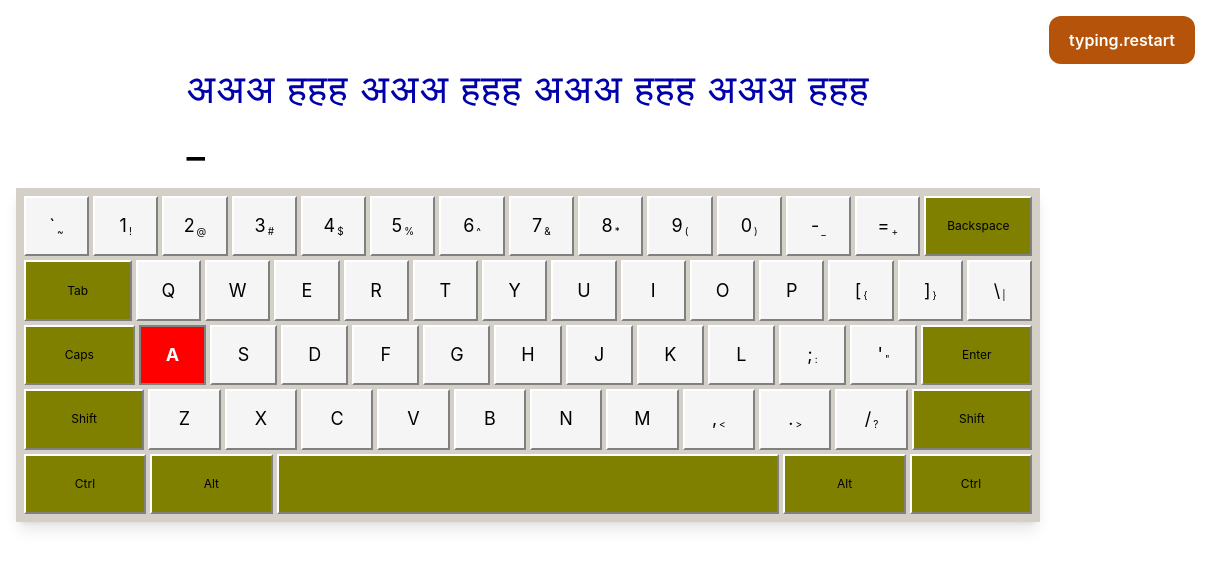
Test: ClassicScreen tap input › prints the spaced roman finger hint for a multi key unit (spec 0022 AC-3)
The width and height of the screenshot is (1211, 580).
Click the button named "KeyA" at (172,355), box [139,325,206,385]
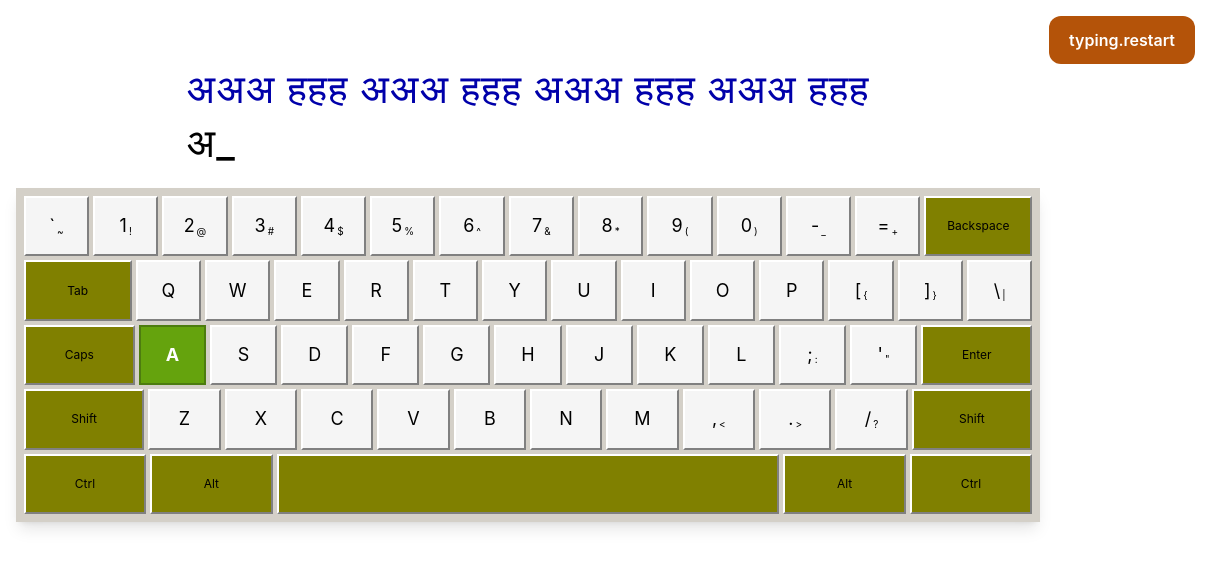
Click the button named "KeyA" at (172,355), box [139,325,206,385]
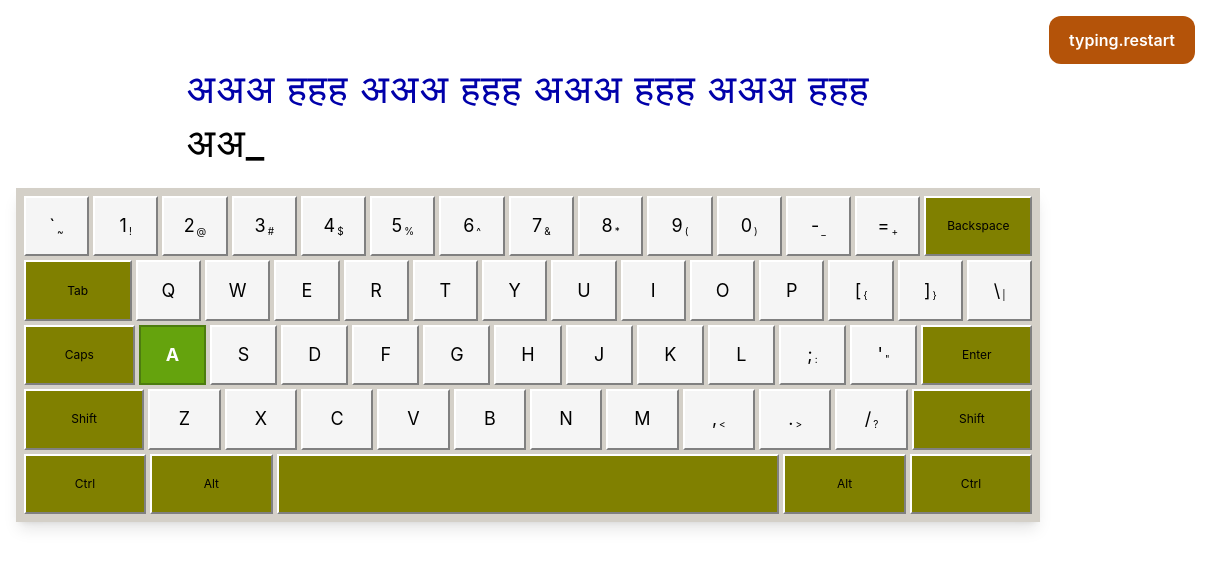
Click the button named "KeyA" at (172,355), box [139,325,206,385]
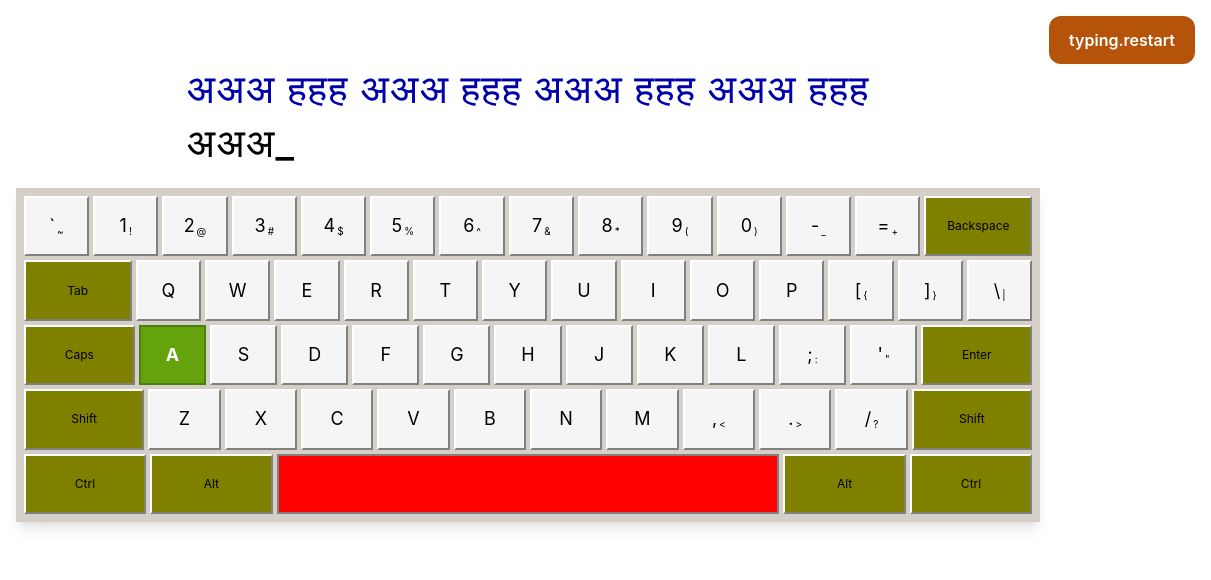
Click the button named "Space" at (528,484), box [277,454,779,514]
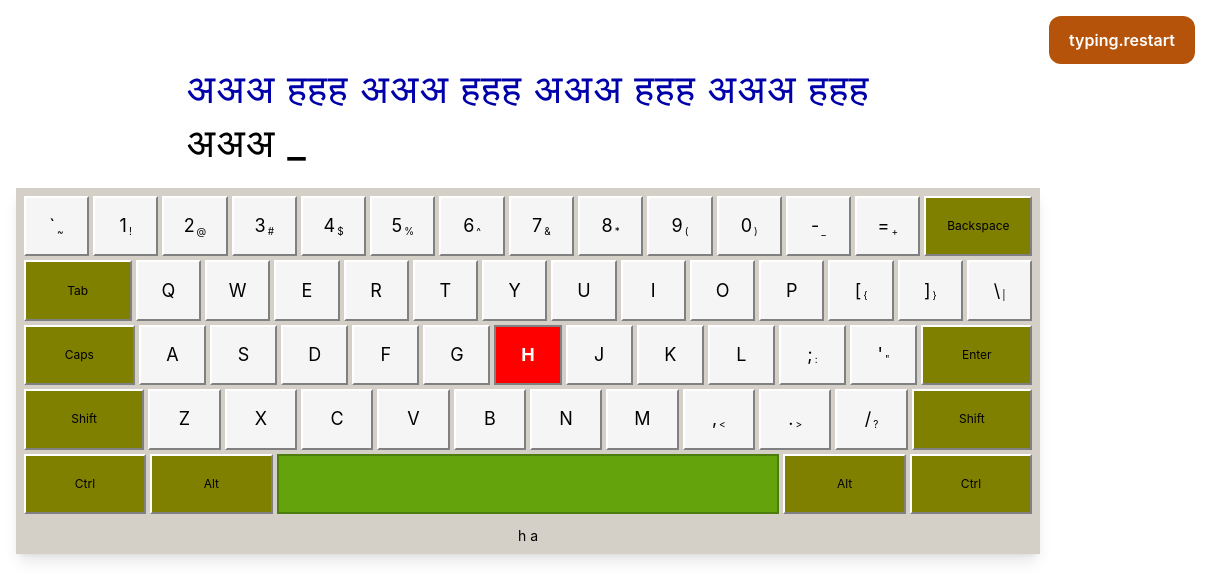
Expected: the text "h a" is shown, [518,527,538,544]
